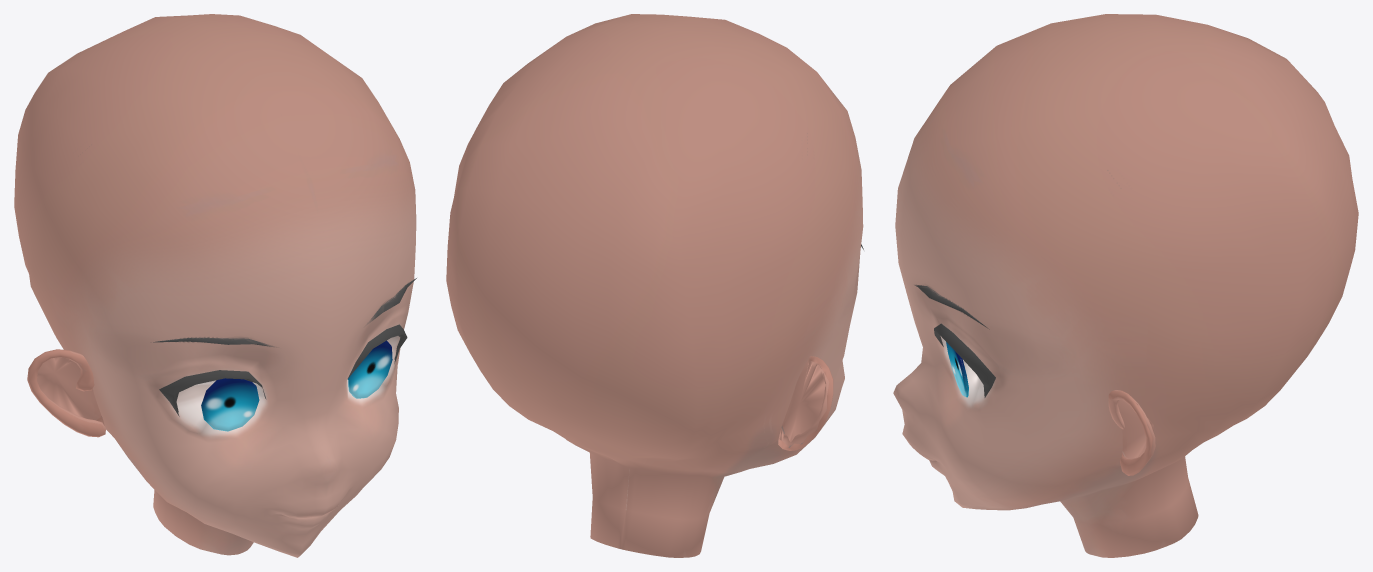
The model's file is anime_head.glb.
The picture shows the model from 3 angles, left to right: view 1: azimuth 30°, elevation 25°; view 2: azimuth 150°, elevation 25°; view 3: azimuth 270°, elevation 25°; orthographic projection. The views are drawn at different scales.
Visible parts, largest first — view 1: Face; view 2: Face; view 3: Face.
Part boxes in pixels (box(x1,y1,x2,y2)): Face: box(14, 14, 416, 557); Face: box(446, 14, 863, 557); Face: box(893, 14, 1358, 557).
Size of the model in its own units: 4.54 by 6.07 by 4.97.
1 material, 1 textured.
